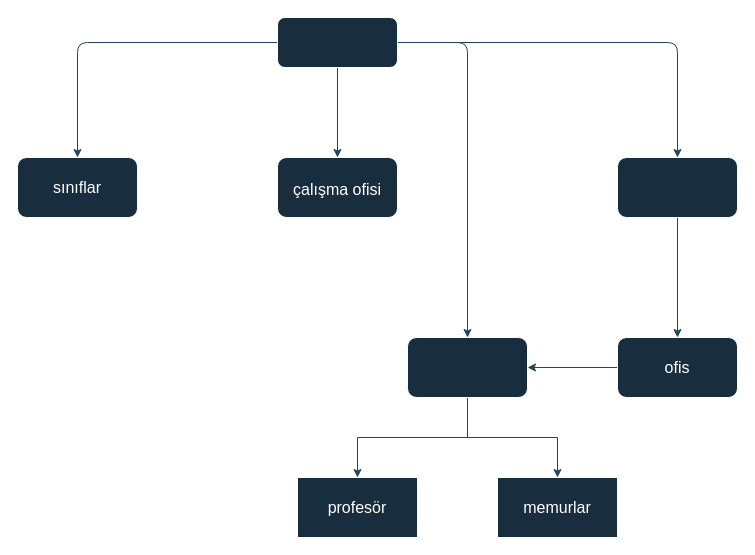
This 755x555 diagram has some shape labels left out. Each missing label, with the centre of its shape:
departmanlar: [677,187]
çalışanlar: [467,367]
üniversite: [337,42]
